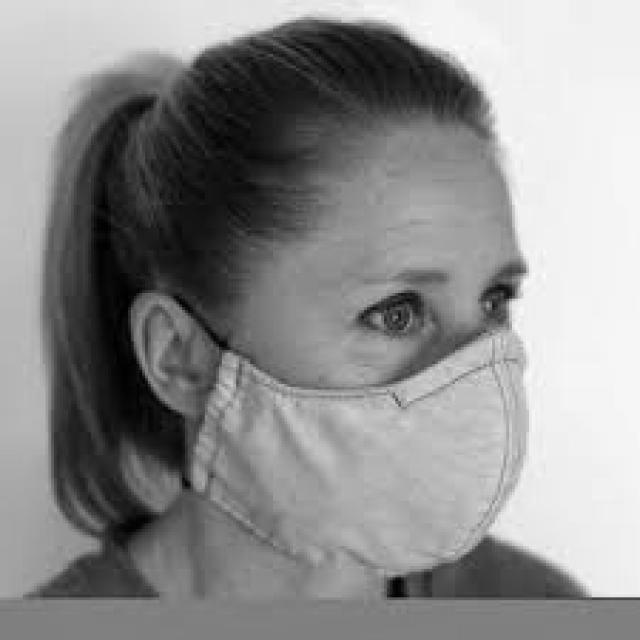fake: (160, 291, 557, 582)
real: (205, 117, 528, 587)
